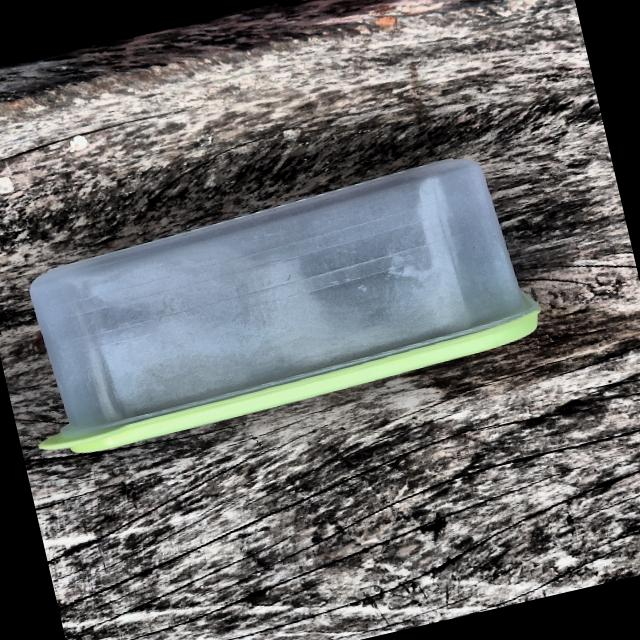plastic container: (0, 123, 567, 474)
